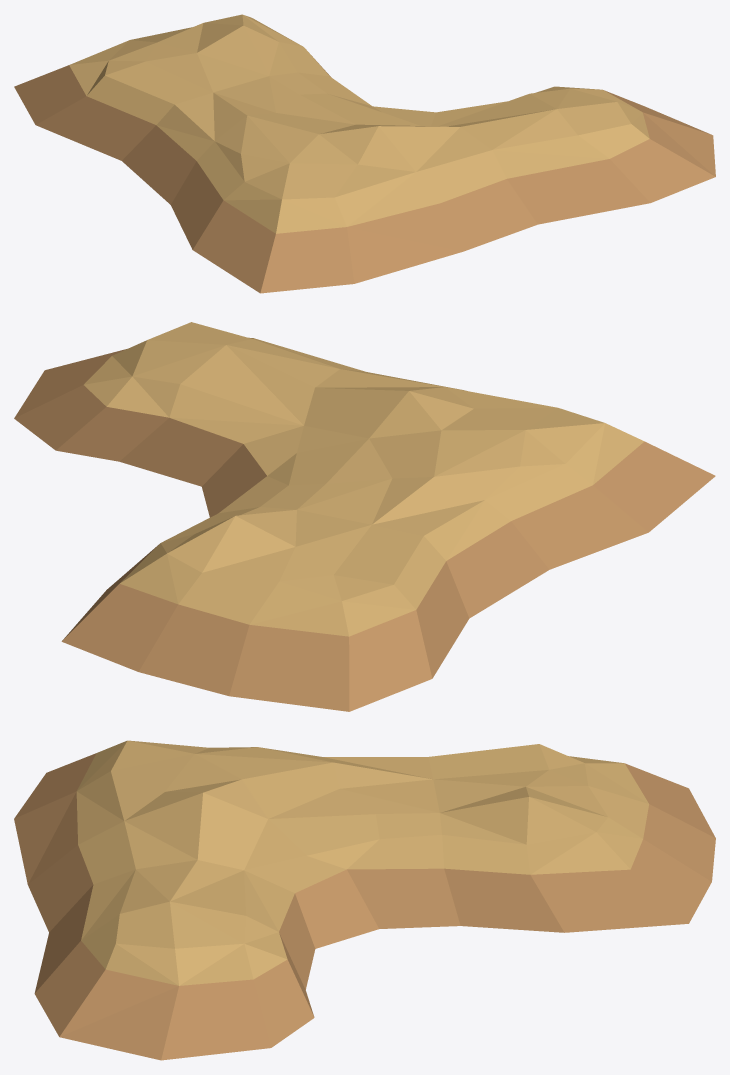
File: TB_D_Env_Mound_Corner_A.FBX
The picture shows the model from 3 angles, top to bottom: view 1: azimuth 30°, elevation 25°; view 2: azimuth 150°, elevation 25°; view 3: azimuth 270°, elevation 25°; orthographic projection. The views are drawn at different scales.
Visible parts, largest first — view 1: TB_D_Env_Mound_Corner_A; view 2: TB_D_Env_Mound_Corner_A; view 3: TB_D_Env_Mound_Corner_A.
Boxes of the visible parts, box(x1,y1,x2,y2) form: TB_D_Env_Mound_Corner_A: box(14, 14, 715, 293); TB_D_Env_Mound_Corner_A: box(14, 322, 715, 711); TB_D_Env_Mound_Corner_A: box(14, 740, 715, 1060).
Size of the model in its own units: 24.99 by 3.45 by 25.45.
